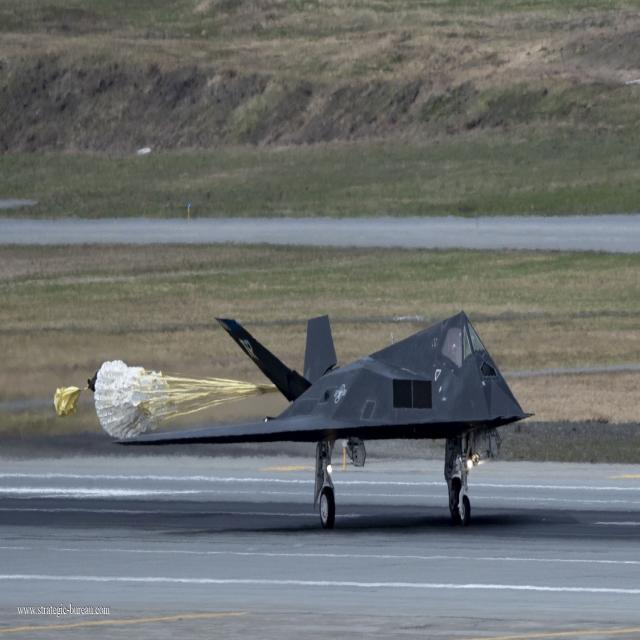F117: (215, 261, 547, 566)
